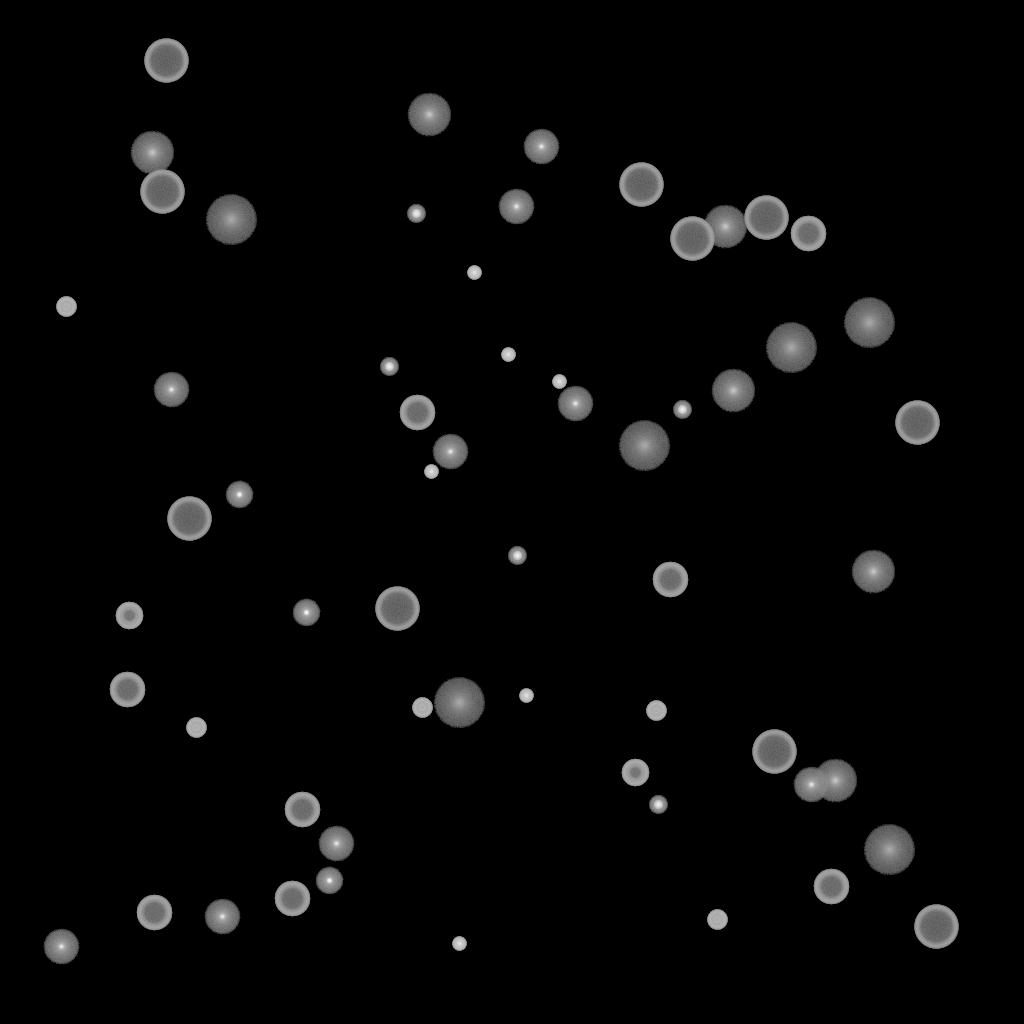depth:-10: (315, 867, 343, 895), (292, 599, 320, 627), (225, 481, 253, 509)
depth:-20: (508, 547, 526, 565), (407, 205, 425, 223), (649, 796, 667, 814), (673, 401, 691, 419), (380, 358, 398, 376)
depth:-30: (452, 937, 466, 951), (424, 465, 438, 479), (501, 348, 515, 362), (467, 266, 481, 280), (519, 689, 533, 703), (552, 375, 566, 389)
depth:-40: (56, 297, 76, 317), (186, 718, 206, 738), (646, 701, 666, 721), (412, 698, 432, 718), (707, 910, 727, 930)
depth:-50: (621, 759, 649, 787), (115, 602, 143, 630)
depth:-60: (399, 395, 435, 431), (790, 216, 826, 252), (109, 672, 145, 708), (274, 881, 310, 917), (813, 869, 849, 905), (652, 562, 688, 598), (136, 895, 172, 931), (284, 792, 320, 828)
depth:-70: (914, 905, 958, 949), (619, 163, 663, 207), (670, 217, 714, 261), (752, 730, 796, 774), (140, 170, 184, 214), (895, 401, 939, 445), (144, 39, 188, 83), (744, 196, 788, 240), (167, 497, 211, 541), (375, 587, 419, 631)
depth:0: (523, 129, 559, 165), (153, 372, 189, 408), (204, 899, 240, 935), (498, 189, 534, 225), (432, 434, 468, 470), (793, 767, 829, 803), (43, 929, 79, 965), (557, 386, 593, 422), (318, 826, 354, 862)
depth:10: (711, 369, 755, 413), (813, 759, 857, 803), (130, 131, 174, 175), (407, 93, 451, 137), (703, 205, 747, 249), (851, 550, 895, 594)
depth:20: (205, 195, 257, 245), (433, 678, 485, 728), (863, 825, 915, 875), (843, 298, 895, 348), (765, 323, 817, 373), (618, 421, 670, 471)
